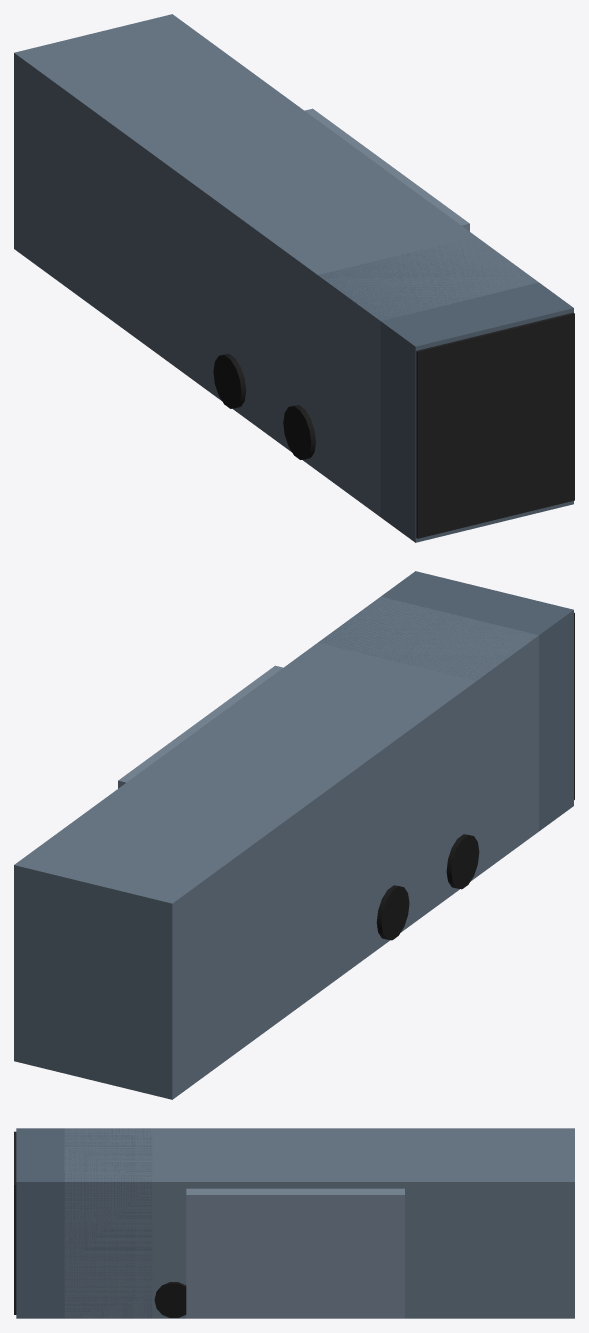
Rendered from rv-toy-hauler.glb.
3 views of the same model, one above another, from view 1: azimuth 30°, elevation 25°; view 2: azimuth 150°, elevation 25°; view 3: azimuth 270°, elevation 25° (orthographic). The views are drawn at different scales.
Bounding box in the file's own units: 3 × 3.1 × 11.55.
